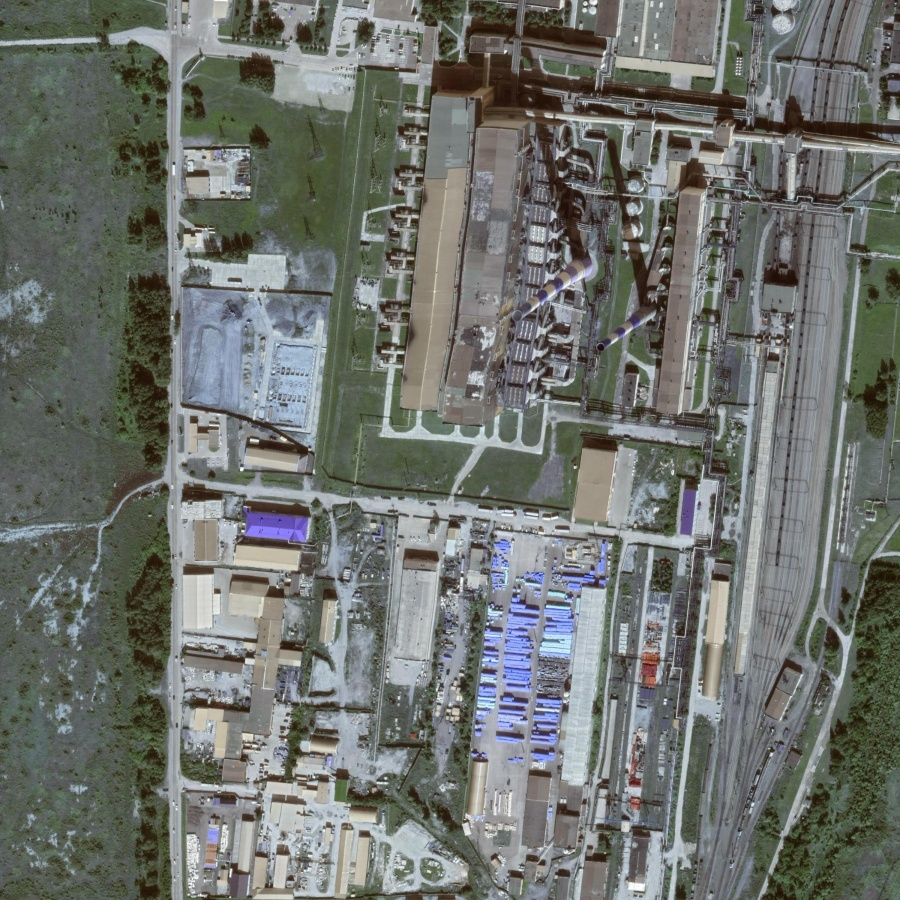PowerPlant: (482, 54, 735, 382)
